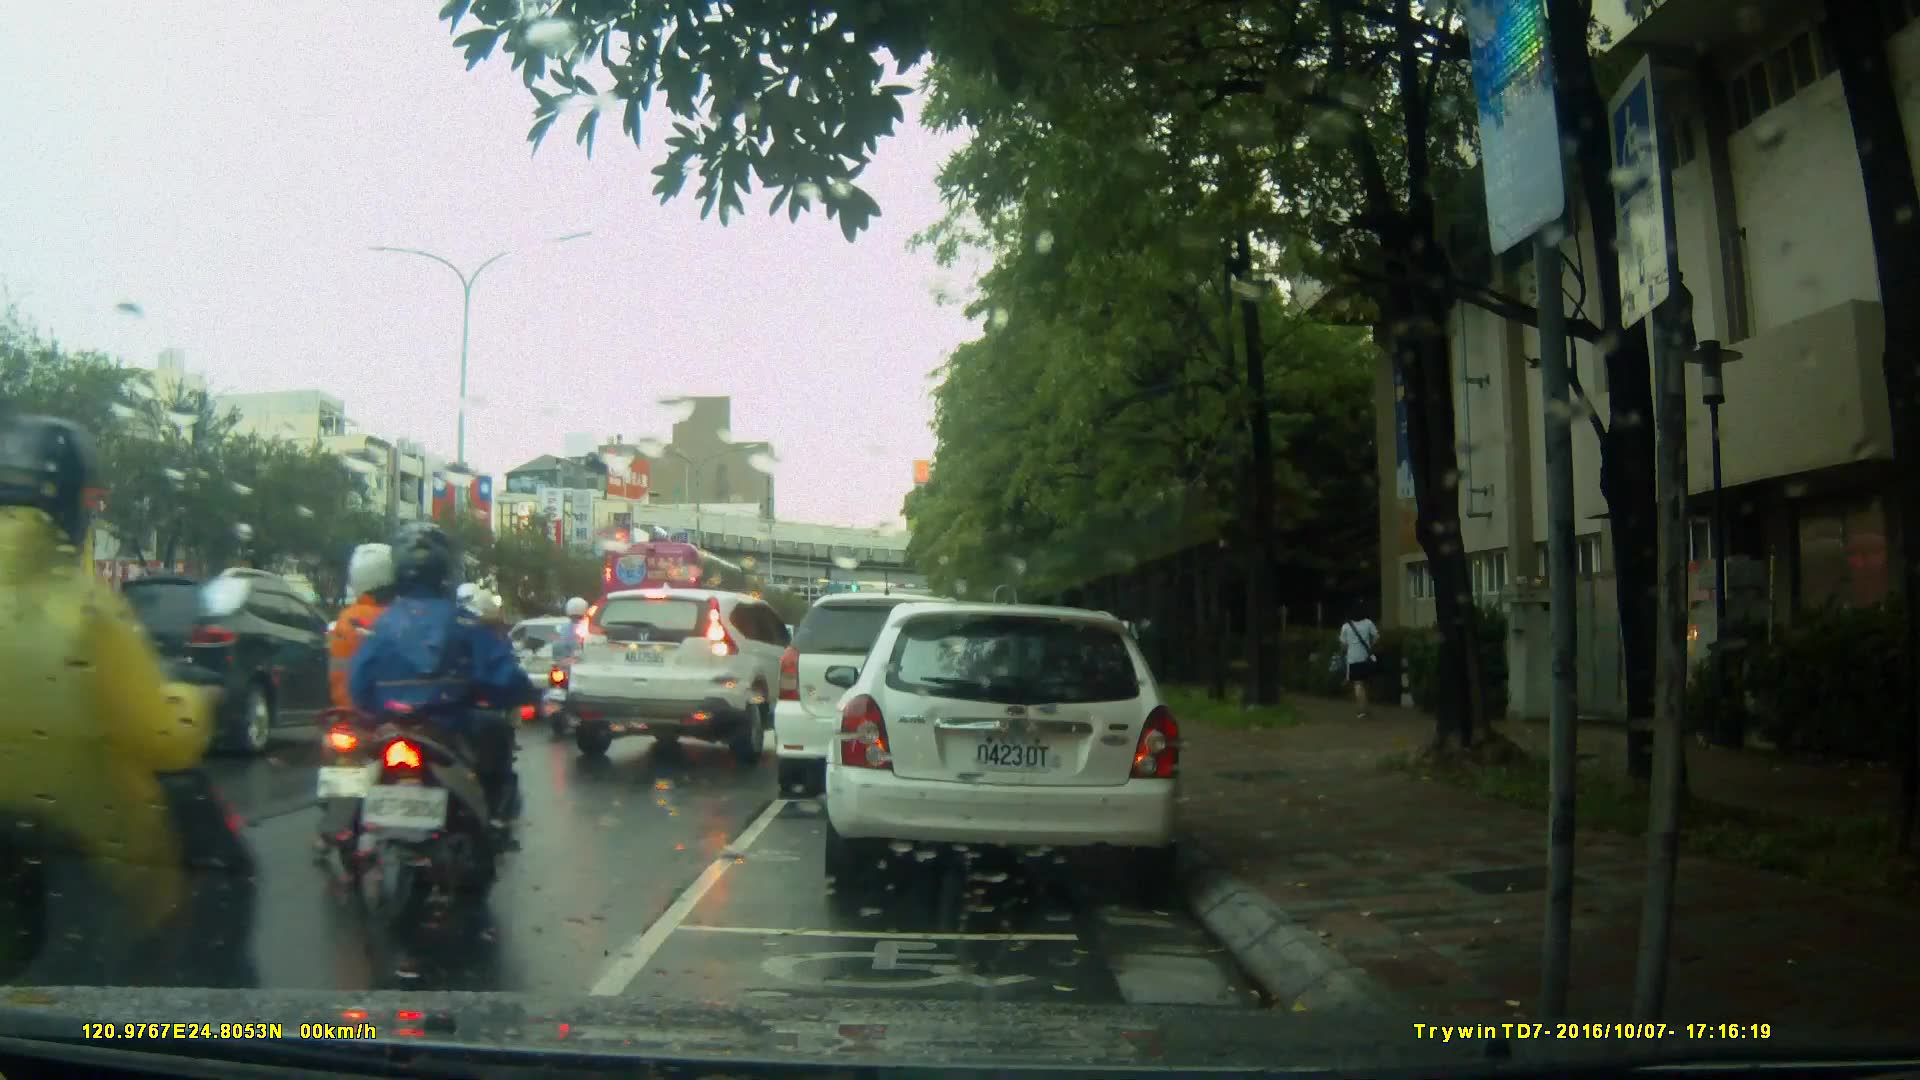pedestrian: (1326, 591, 1387, 734)
rider: (1, 408, 293, 1069), (353, 526, 528, 924), (316, 535, 452, 881), (540, 596, 609, 742)
vehicle: (835, 594, 1194, 898), (64, 562, 355, 762), (552, 585, 828, 772), (776, 590, 1026, 784), (600, 539, 748, 635)
